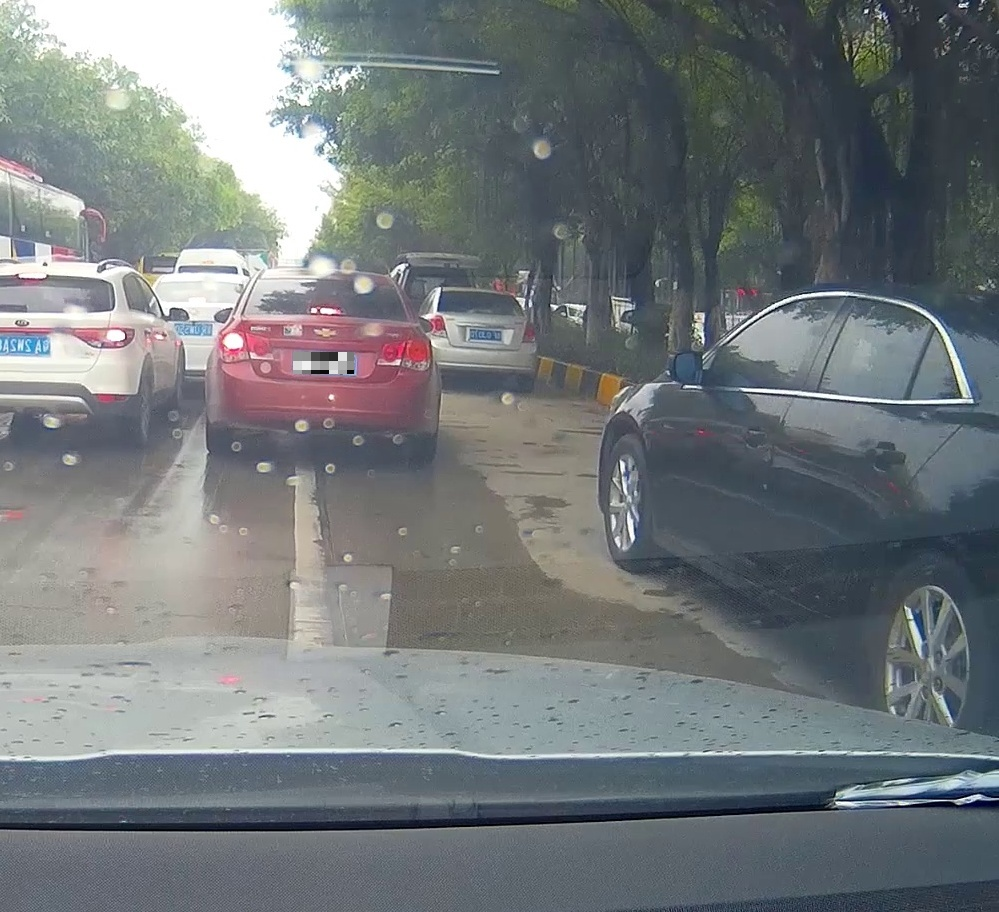L_light: (218, 329, 274, 364)
R_light: (375, 336, 433, 371)
T_light: (310, 305, 341, 316)
day-brake: (216, 272, 435, 451)
plate_1: (293, 352, 354, 374)
